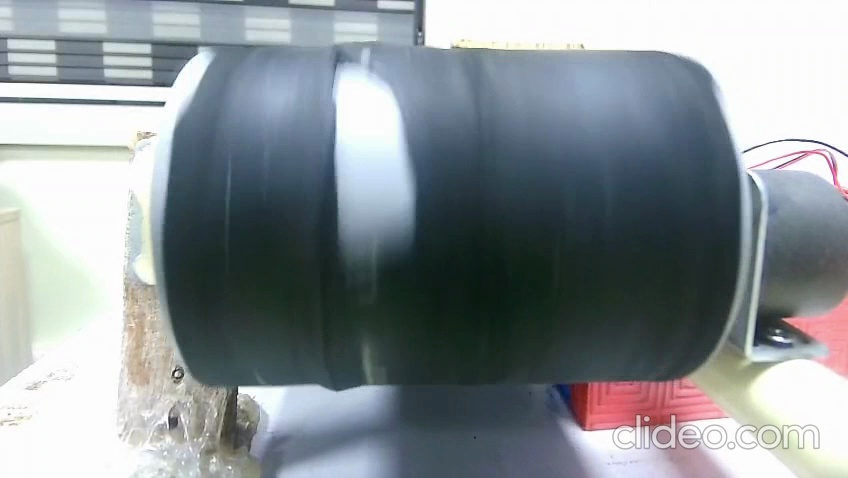hole: (318, 42, 432, 266)
